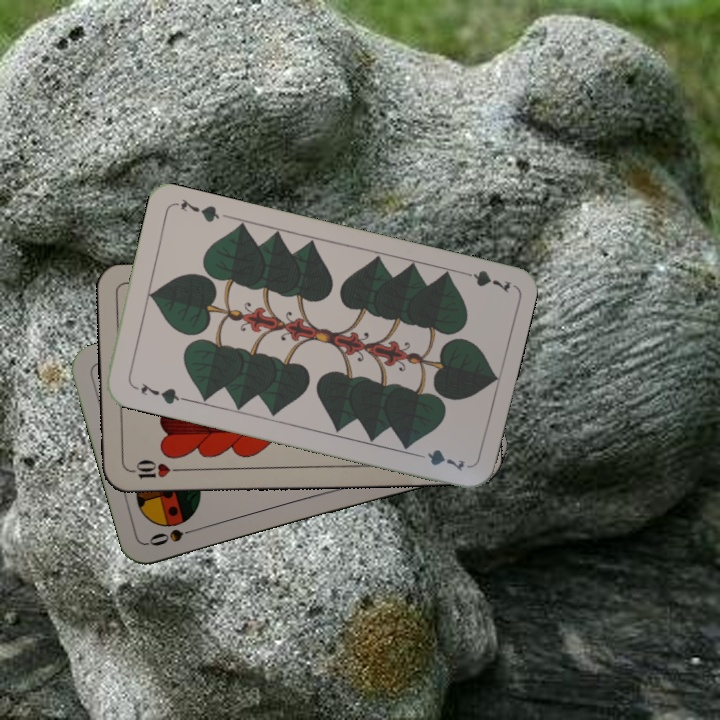G7: (454, 266, 513, 295), (136, 379, 187, 407)
H10: (126, 457, 185, 482)
SO: (145, 523, 203, 549)
